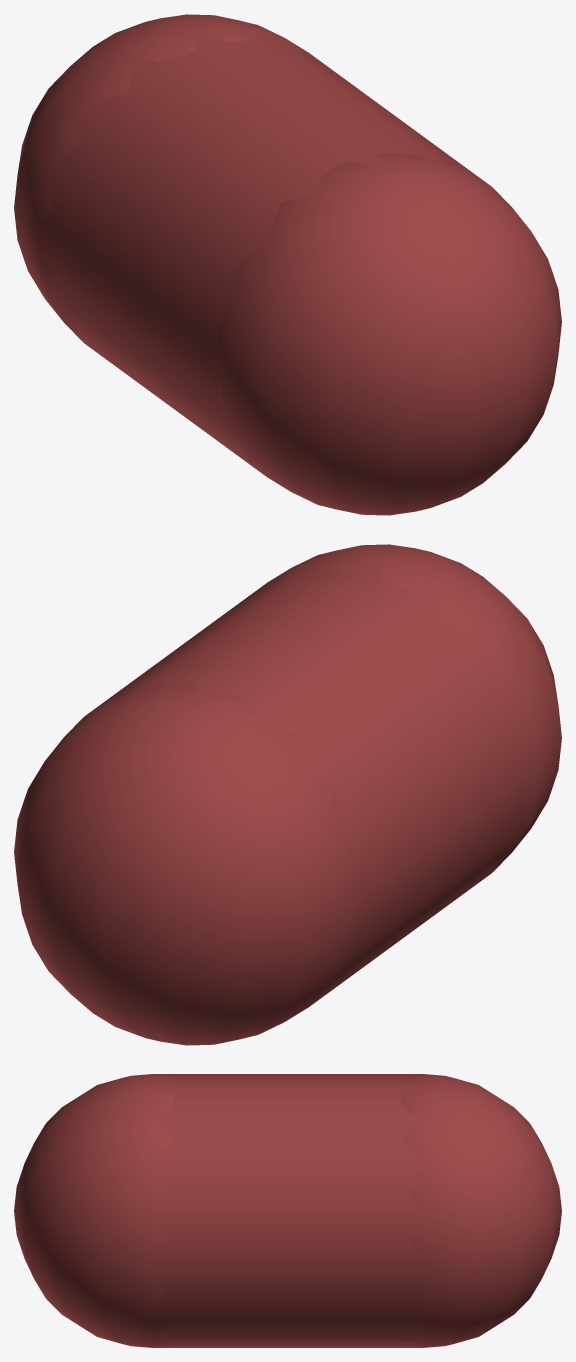
The model's file is RedLine.fbx.
3 views of the same model, one above another, from view 1: azimuth 30°, elevation 25°; view 2: azimuth 150°, elevation 25°; view 3: azimuth 270°, elevation 25° (orthographic). The views are drawn at different scales.
Visible parts, largest first — view 1: pSphere3; view 2: pSphere3; view 3: pSphere3.
Part boxes in pixels (x1,y1,x2,y2): pSphere3: [14, 14, 561, 515]; pSphere3: [14, 544, 561, 1045]; pSphere3: [14, 1074, 561, 1347].
Size of the model in its own units: 1 by 1 by 2.
